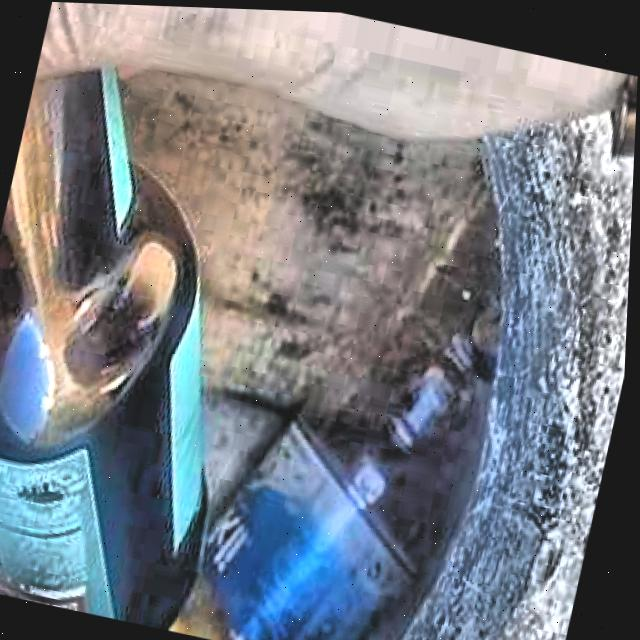glass: (0, 71, 205, 628)
